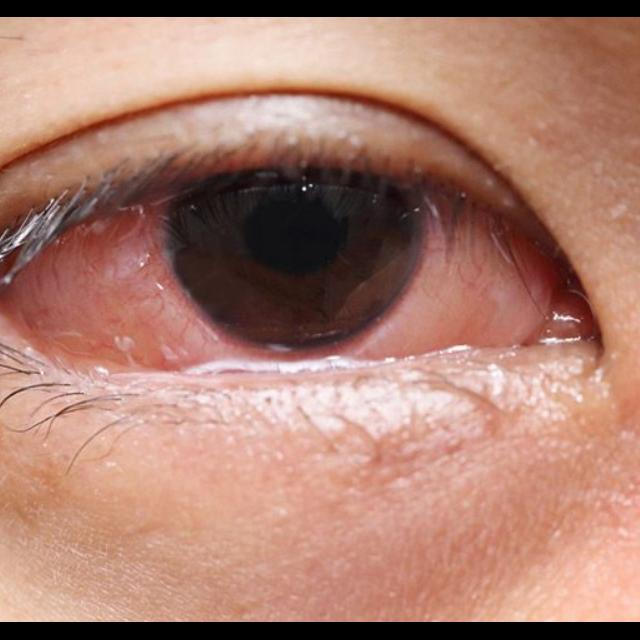eye: (21, 170, 550, 361)
iris: (161, 181, 429, 348)
